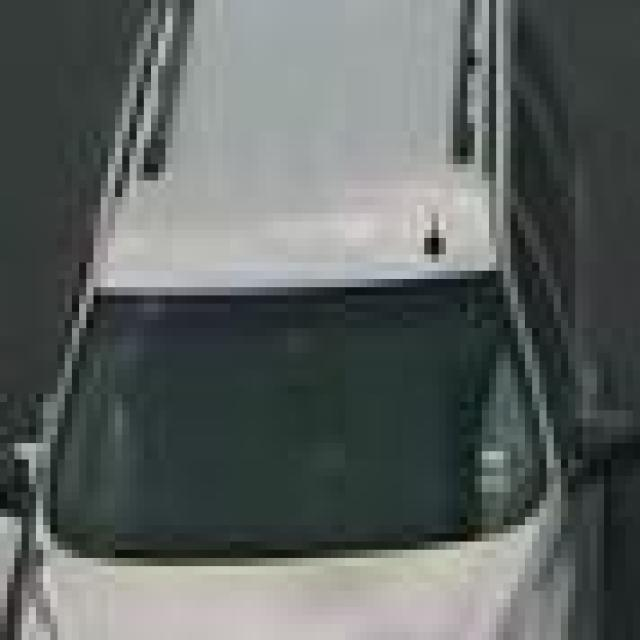Car: (66, 21, 526, 640)
